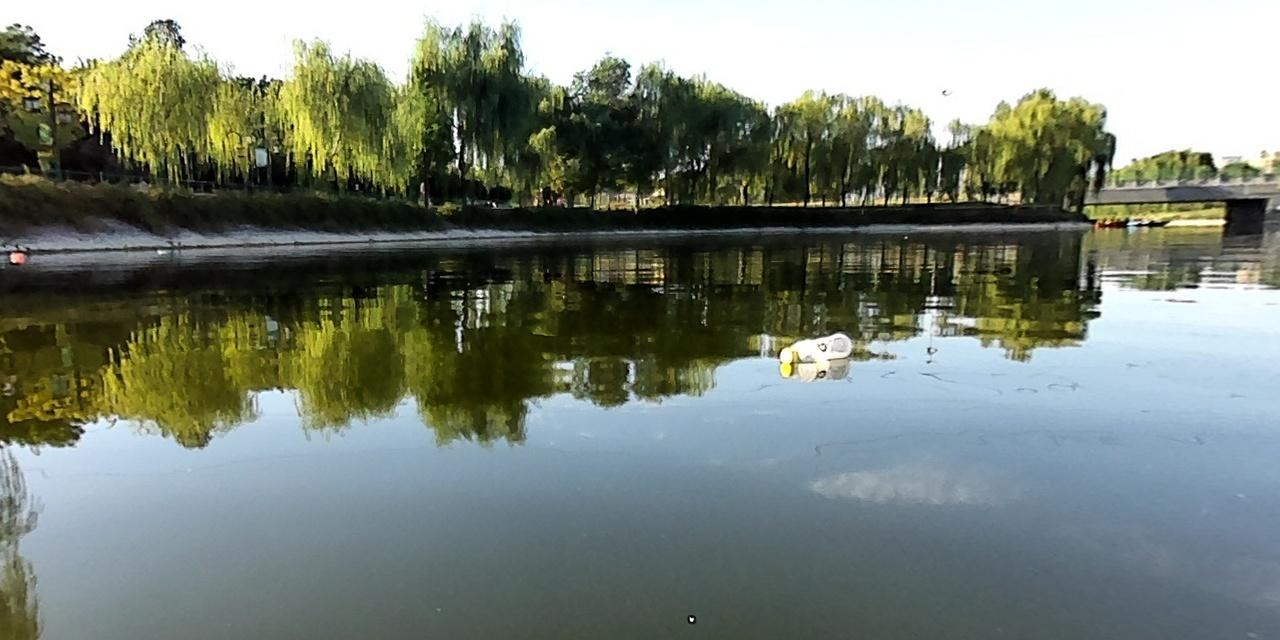bottle: (774, 329, 854, 365)
